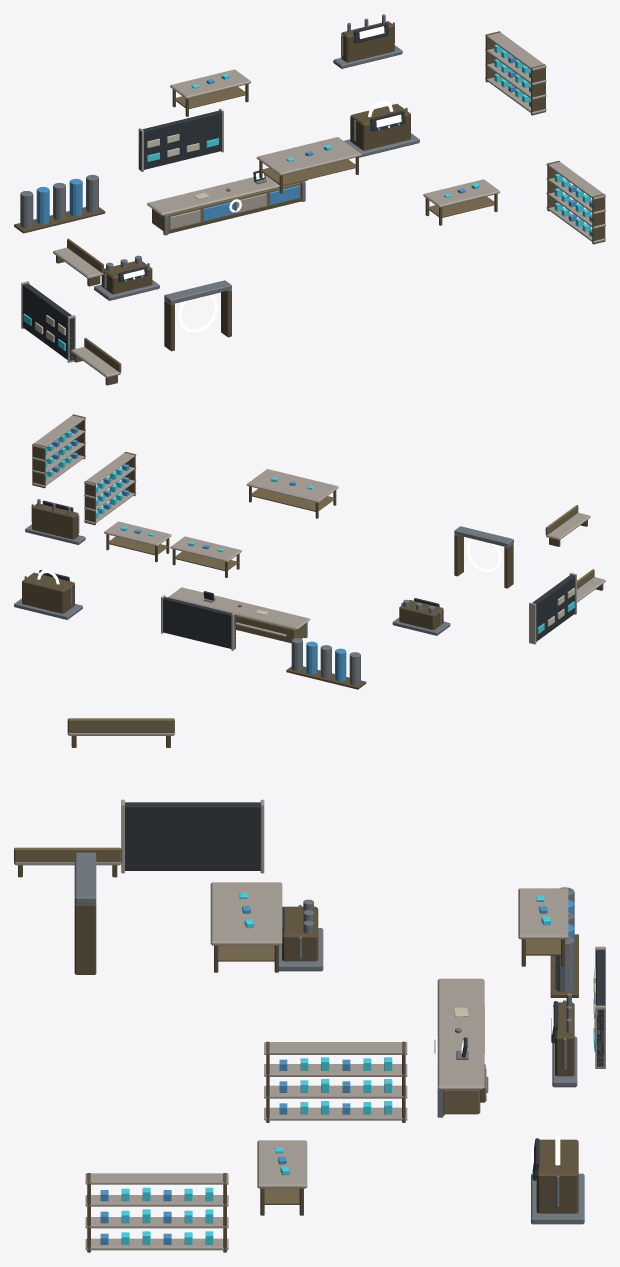
The model's file is eastgate_portal_office.glb.
The picture shows the model from 3 angles, top to bottom: view 1: azimuth 30°, elevation 25°; view 2: azimuth 150°, elevation 25°; view 3: azimuth 270°, elevation 25°; orthographic projection. The views are drawn at different scales.
Bounding box in the file's own units: 25.62 × 6.26 × 16.55.
